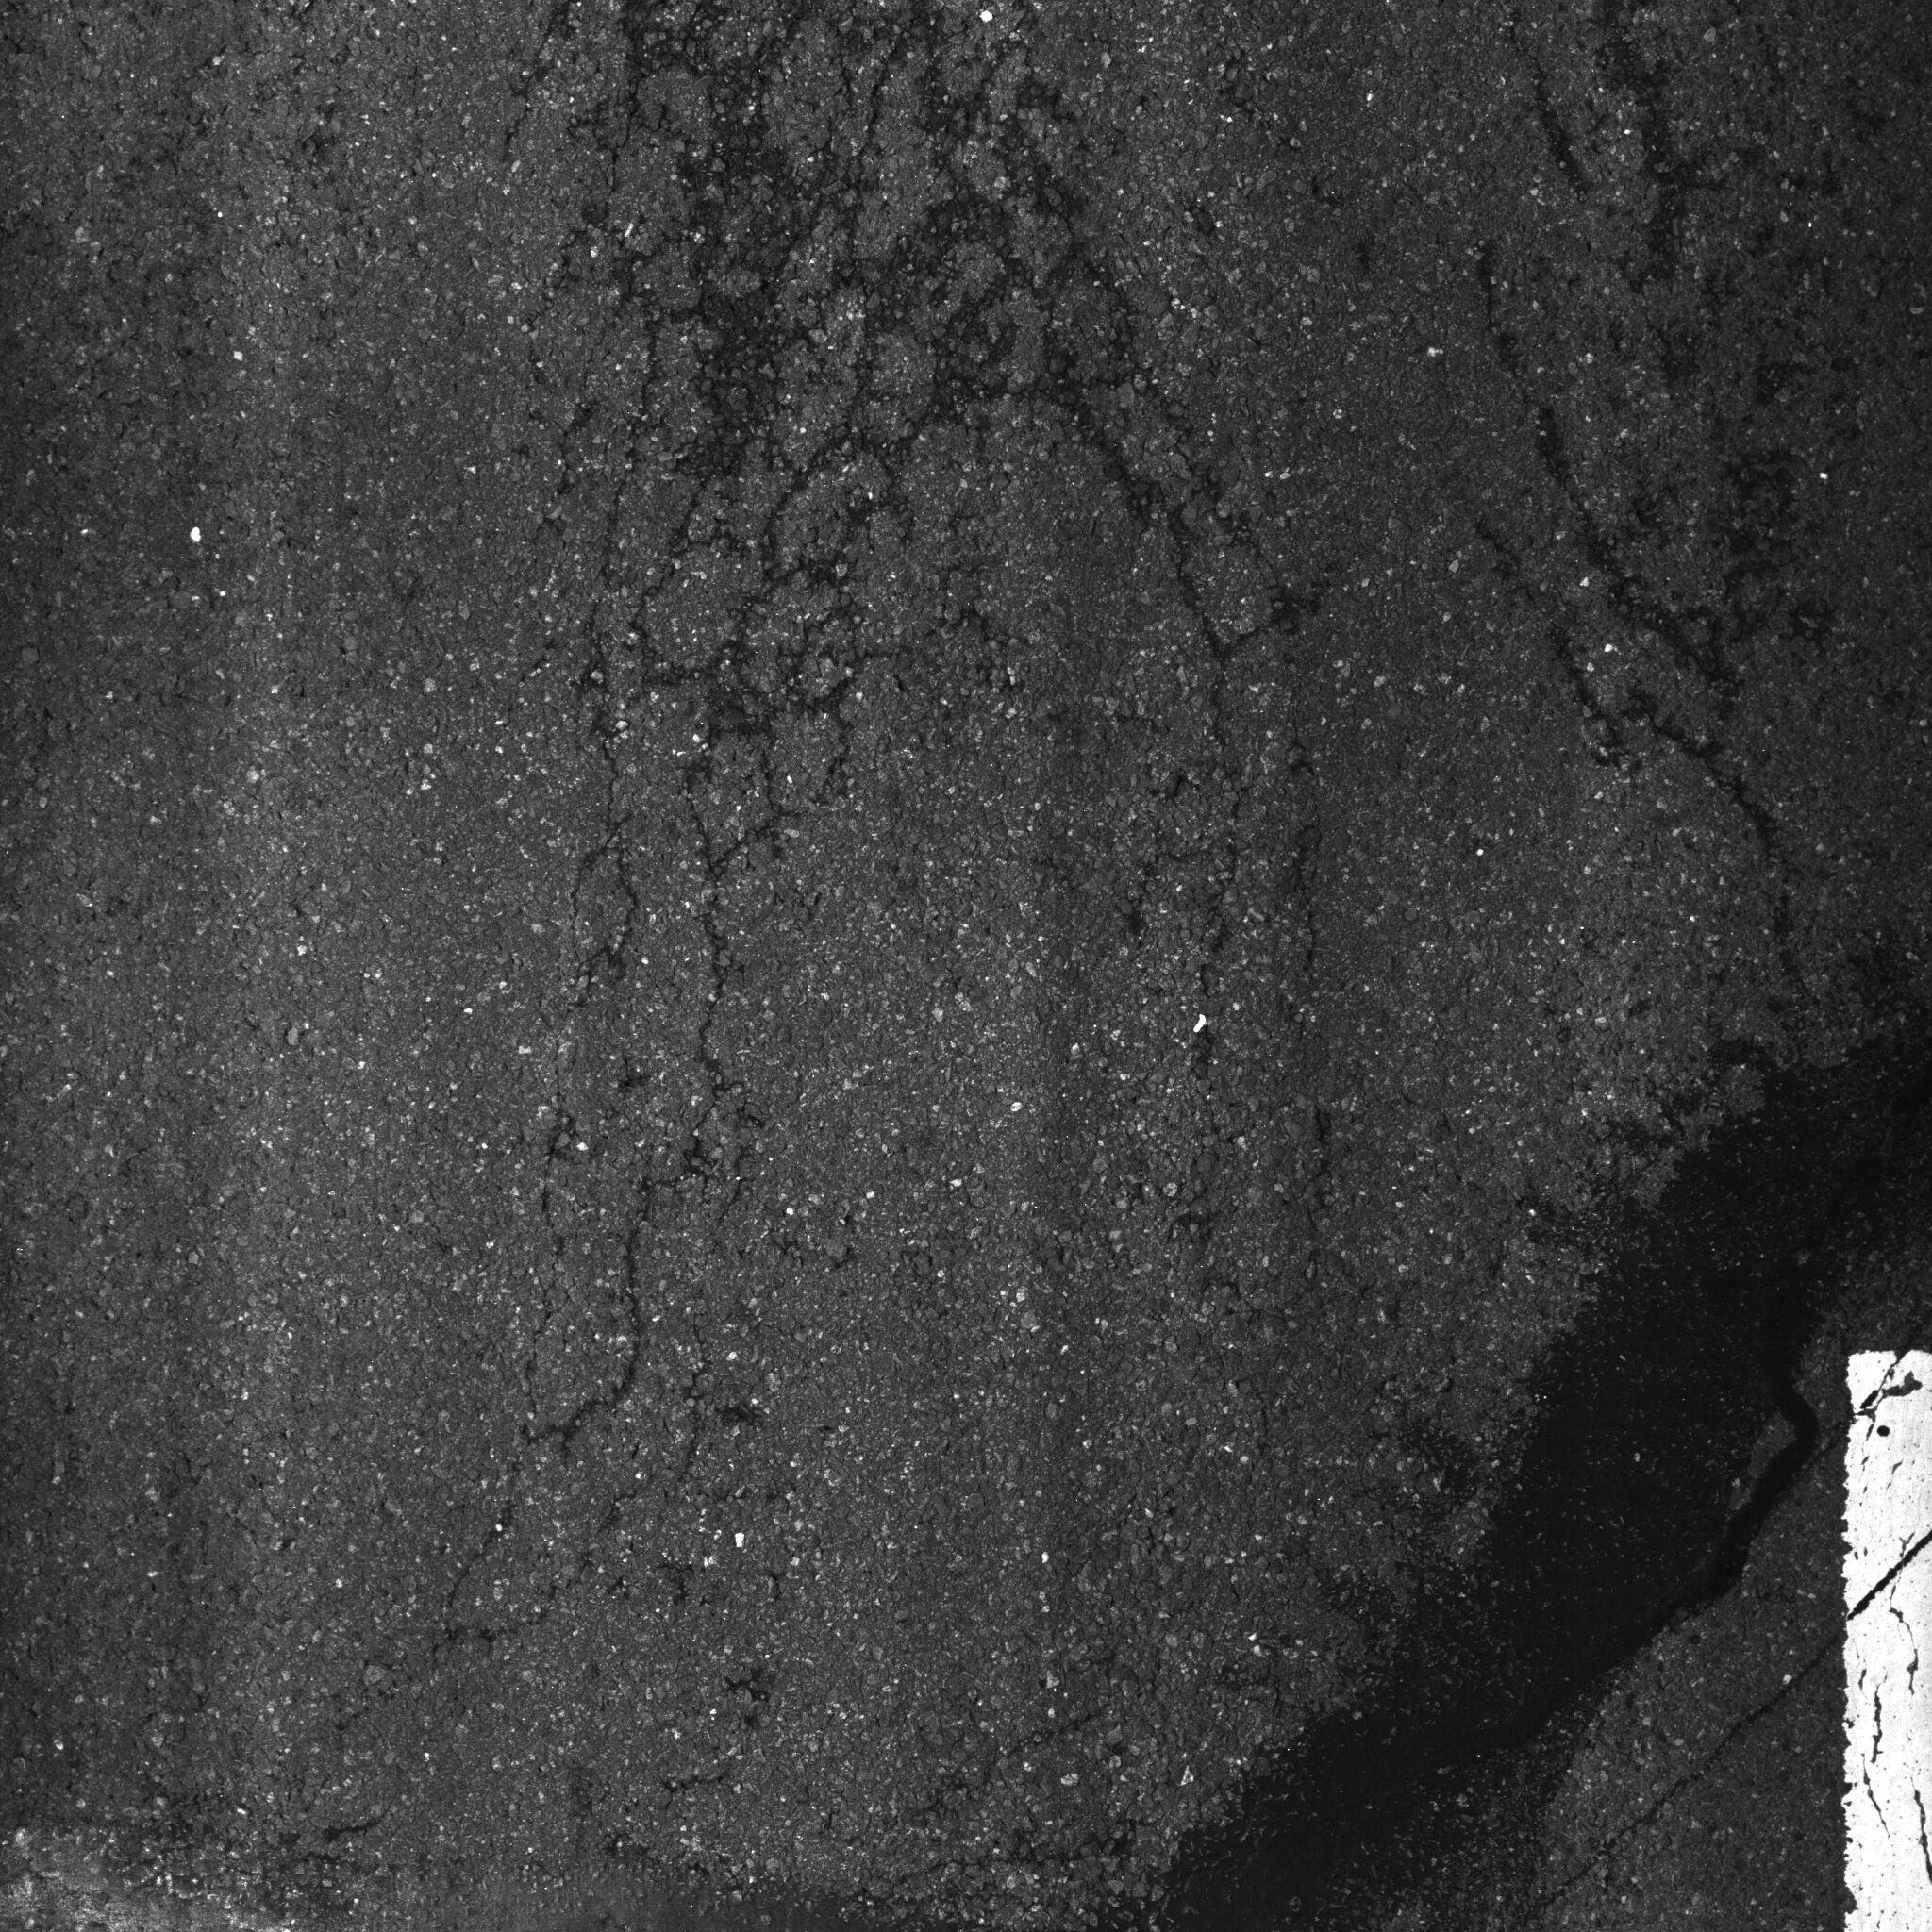alligator: (430, 2, 1812, 1638)
